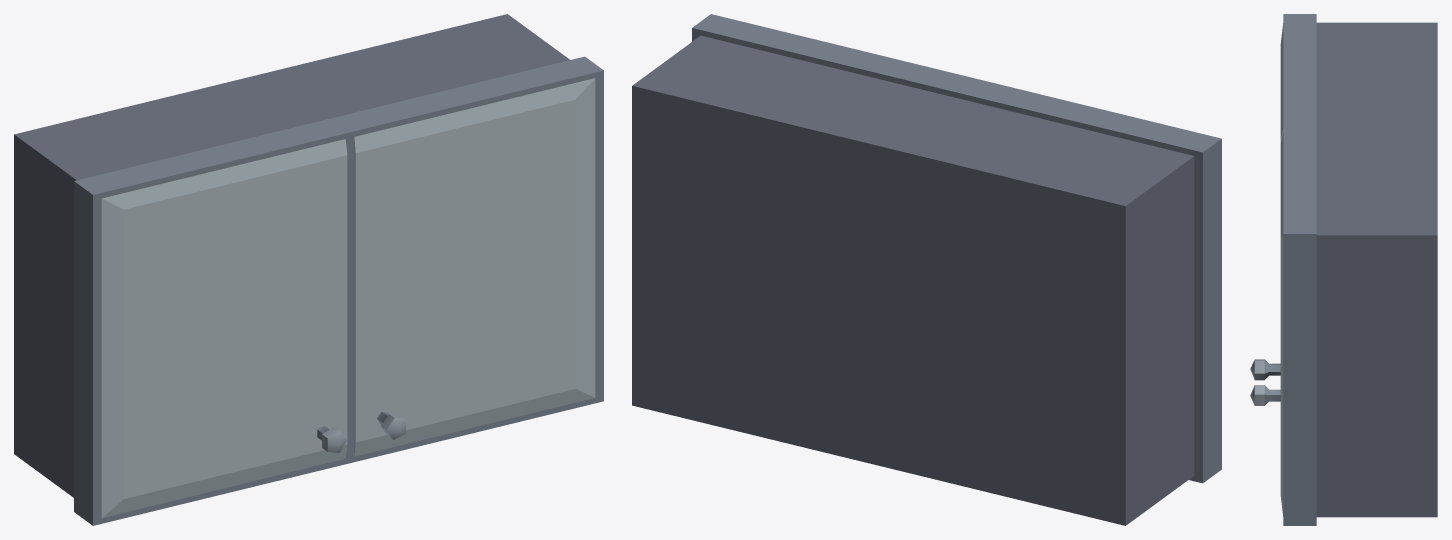
Rendered from cabinet_L.fbx.
The picture shows the model from 3 angles, left to right: view 1: azimuth 30°, elevation 25°; view 2: azimuth 150°, elevation 25°; view 3: azimuth 270°, elevation 25°; orthographic projection. The views are drawn at different scales.
Visible parts, largest first — view 1: large_cabnit; view 2: large_cabnit; view 3: large_cabnit.
Boxes of the visible parts, x1,y1,x2,y2 form: large_cabnit: [14, 14, 603, 525]; large_cabnit: [632, 14, 1221, 525]; large_cabnit: [1250, 14, 1437, 525].
Size of the model in its own units: 1.98 by 1.23 by 0.7153.
